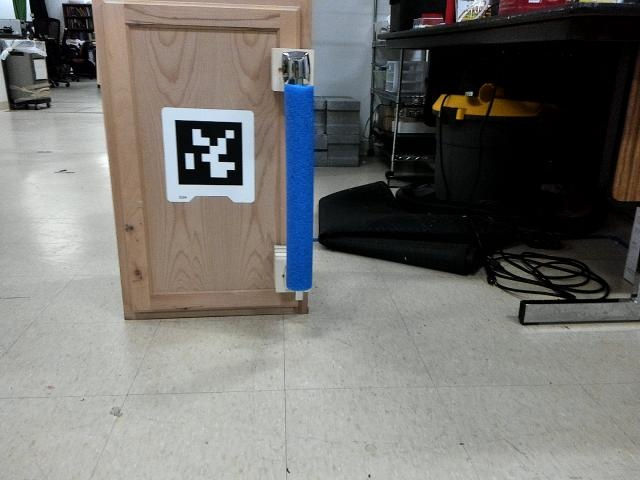noodle_handle: (277, 69, 318, 298)
